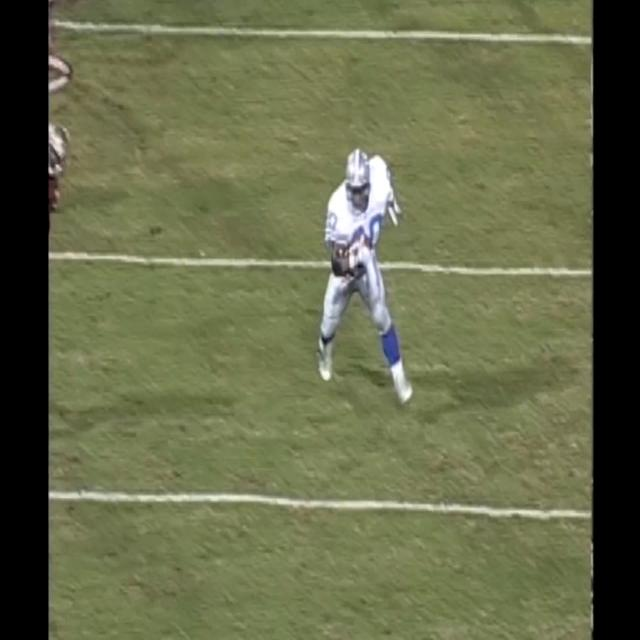football: (342, 237, 369, 279)
players: (316, 148, 414, 404)
